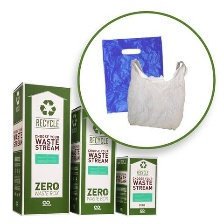plastic_bag: (97, 30, 173, 120), (125, 55, 195, 133)
